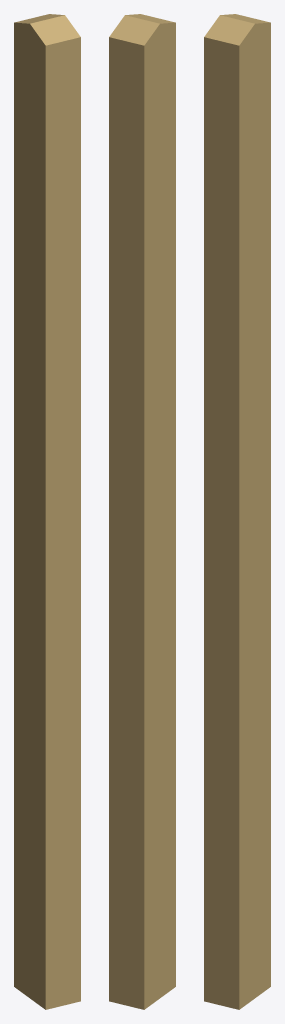
3 views of the same model, side by side, from view 1: azimuth 30°, elevation 25°; view 2: azimuth 150°, elevation 25°; view 3: azimuth 330°, elevation 25° (orthographic).
Visible parts, largest first — view 1: L1-3-S11-327-WEB06; view 2: L1-3-S11-327-WEB06; view 3: L1-3-S11-327-WEB06.
Part boxes in pixels (bbox=[...]): L1-3-S11-327-WEB06: bbox=[14, 14, 80, 1009]; L1-3-S11-327-WEB06: bbox=[109, 14, 175, 1009]; L1-3-S11-327-WEB06: bbox=[204, 14, 270, 1009].
Bounding box in the file's own units: 0.045 × 1.19 × 0.07.
